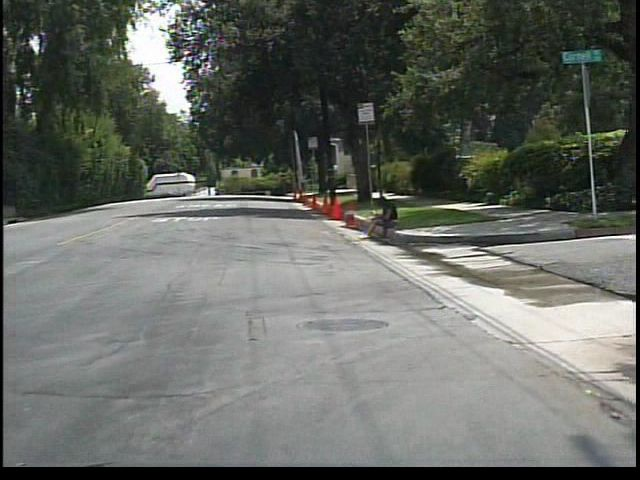person: (357, 191, 410, 244)
